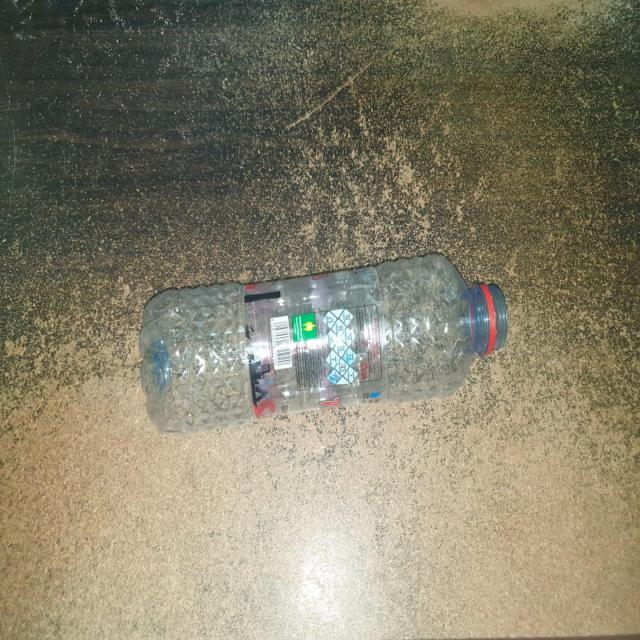bottle: (134, 253, 510, 450)
